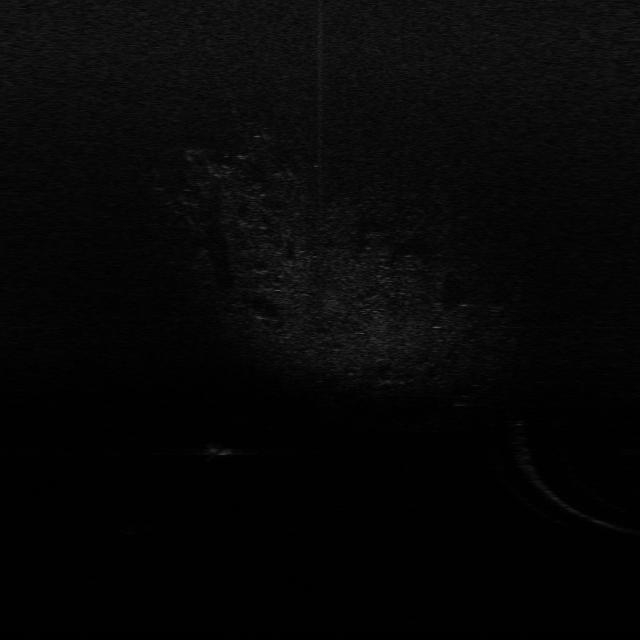square cage: (204, 437, 244, 459)
